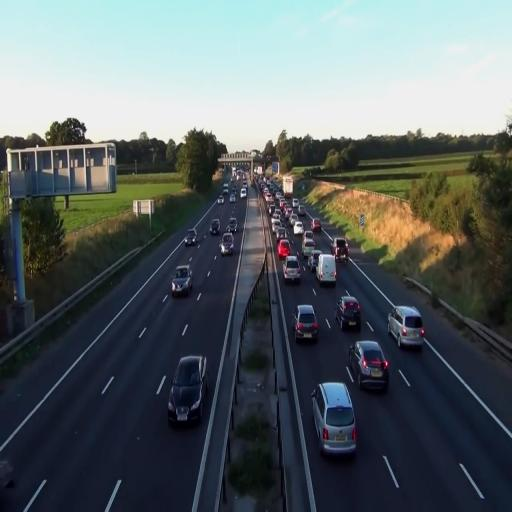vehicle: (311, 380, 357, 458), (166, 354, 208, 426), (347, 340, 389, 392), (388, 305, 425, 351), (336, 294, 362, 331), (294, 304, 318, 344), (170, 266, 192, 298), (316, 254, 337, 285), (282, 256, 302, 283), (220, 234, 235, 256), (185, 231, 197, 248), (210, 219, 220, 236)
